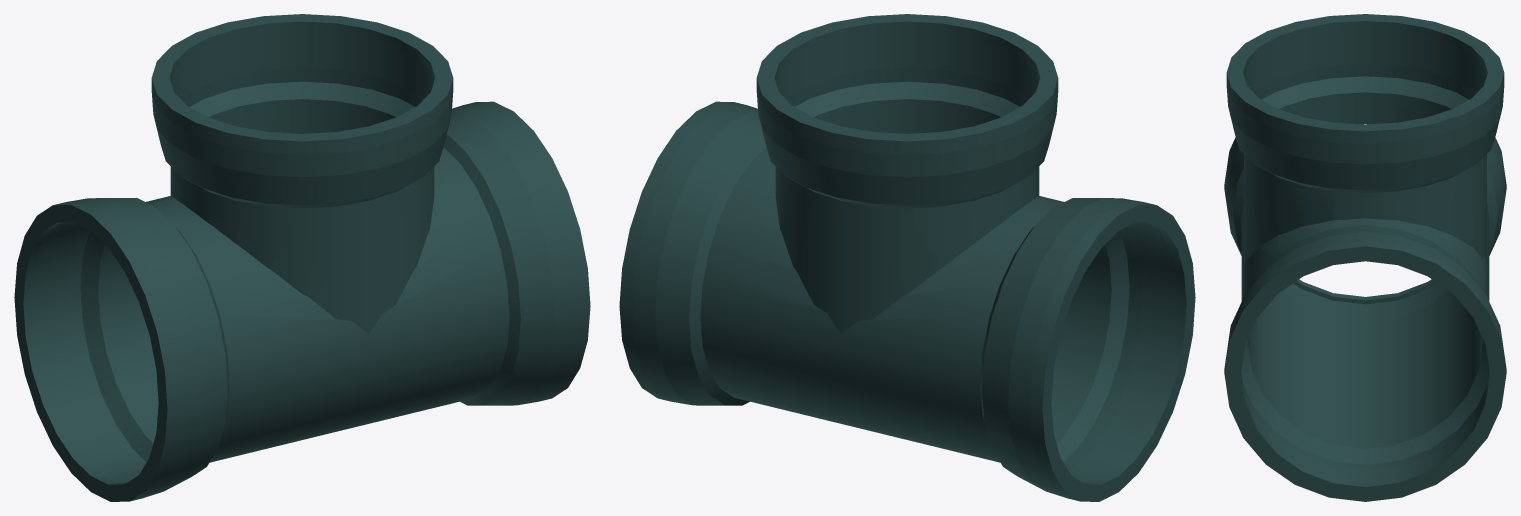
Rendered from AST.glb.
3 views of the same model, side by side, from view 1: azimuth 30°, elevation 25°; view 2: azimuth 150°, elevation 25°; view 3: azimuth 270°, elevation 25° (orthographic). The views are drawn at different scales.
Visible parts, largest first — view 1: RFMMB-4040TYP04(400); view 2: RFMMB-4040TYP04(400); view 3: RFMMB-4040TYP04(400).
Boxes of the visible parts, x1,y1,x2,y2 form: RFMMB-4040TYP04(400): (14, 14, 590, 501); RFMMB-4040TYP04(400): (619, 14, 1195, 501); RFMMB-4040TYP04(400): (1224, 14, 1506, 501).
Size of the model in its own units: 0.78 by 0.6395 by 0.489.
